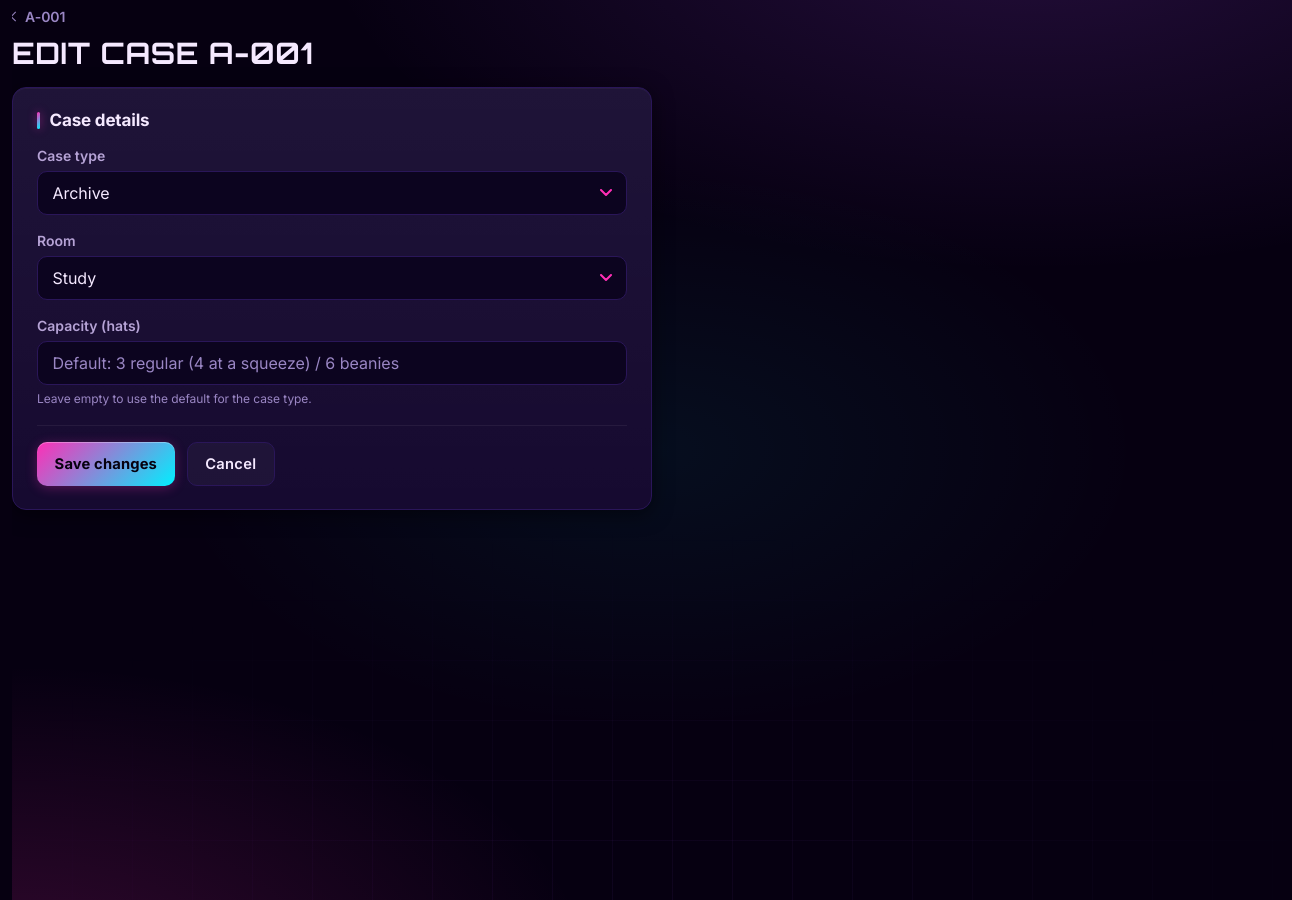
Test: EditCasePage › keeps a failed save on the form and says why
This screenshot has width=1292, height=900.
What coordinates should you click on to do the following:
click the button "Save changes"
I would click on:
 (106, 464)
Its box is [37,442,174,486].
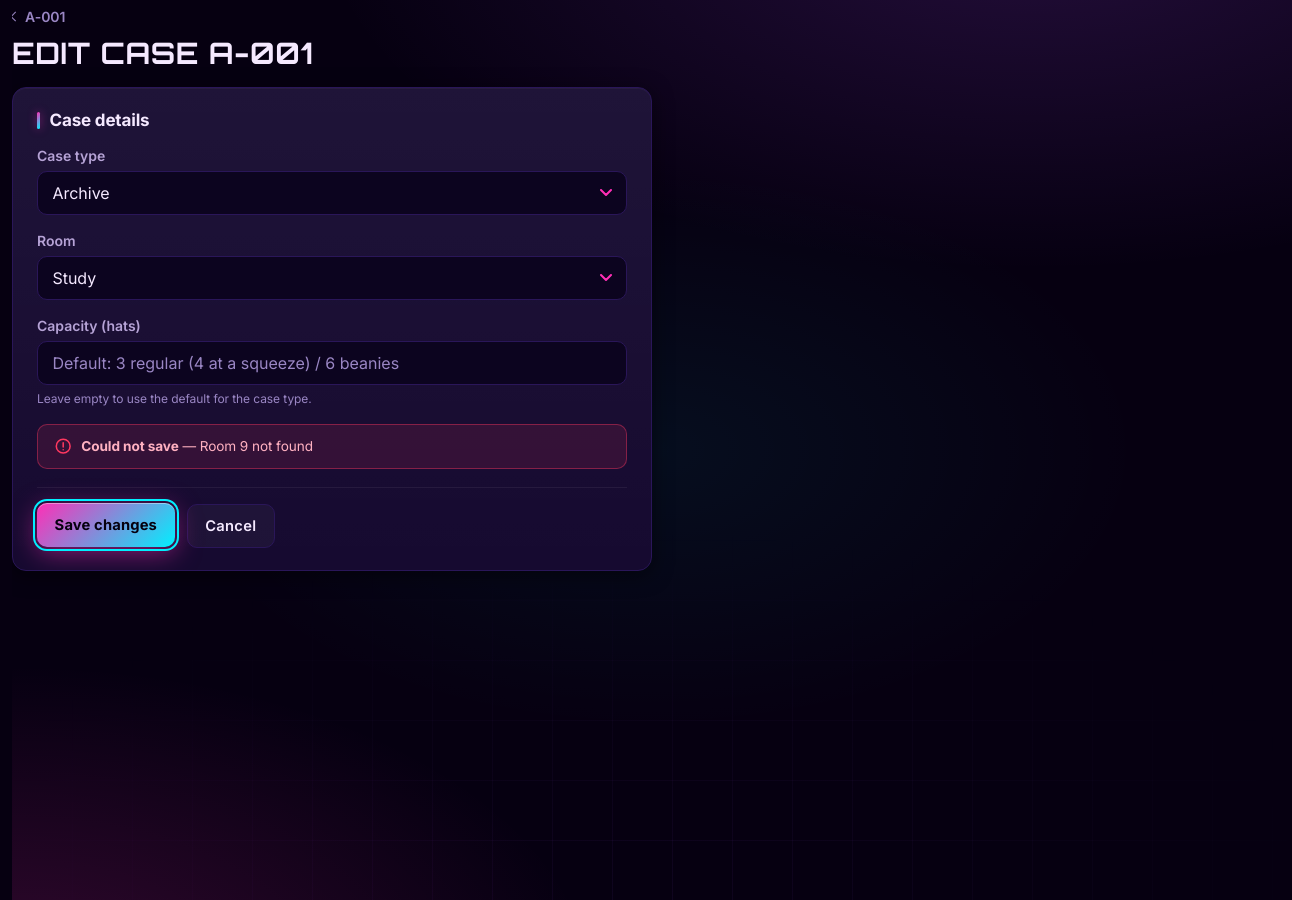
Check: the heading "Edit case A-001" is shown, box [12,34,313,71]
Check: the message reads "Could not save — Room 9 not found", box [37,424,627,469]
